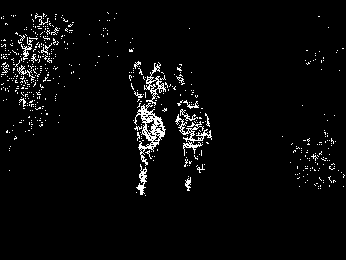person: (174, 98, 213, 194), (131, 97, 168, 197), (126, 59, 149, 104), (145, 61, 169, 100)
